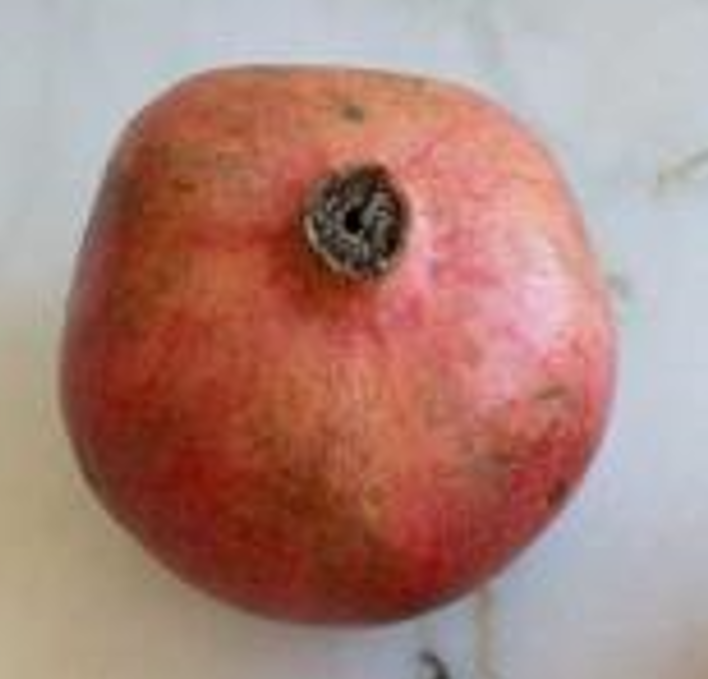pomegranate_B: (58, 64, 620, 627)
